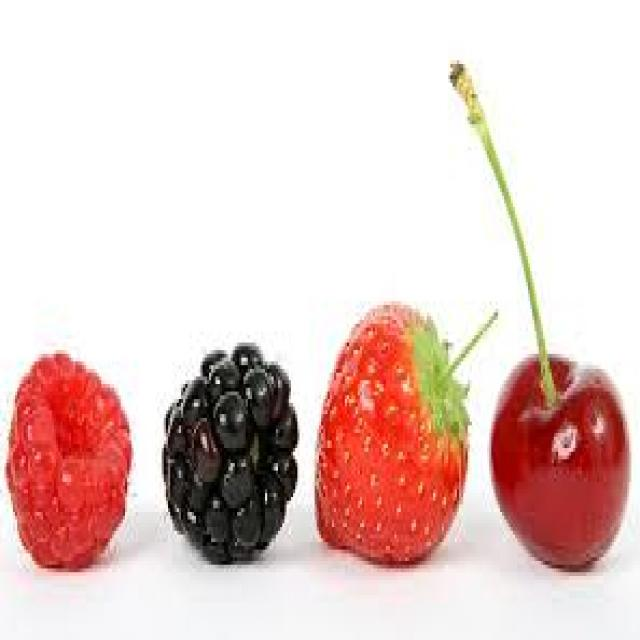organic waste: (450, 56, 627, 572), (312, 298, 468, 572), (160, 347, 296, 558), (2, 350, 129, 569)
